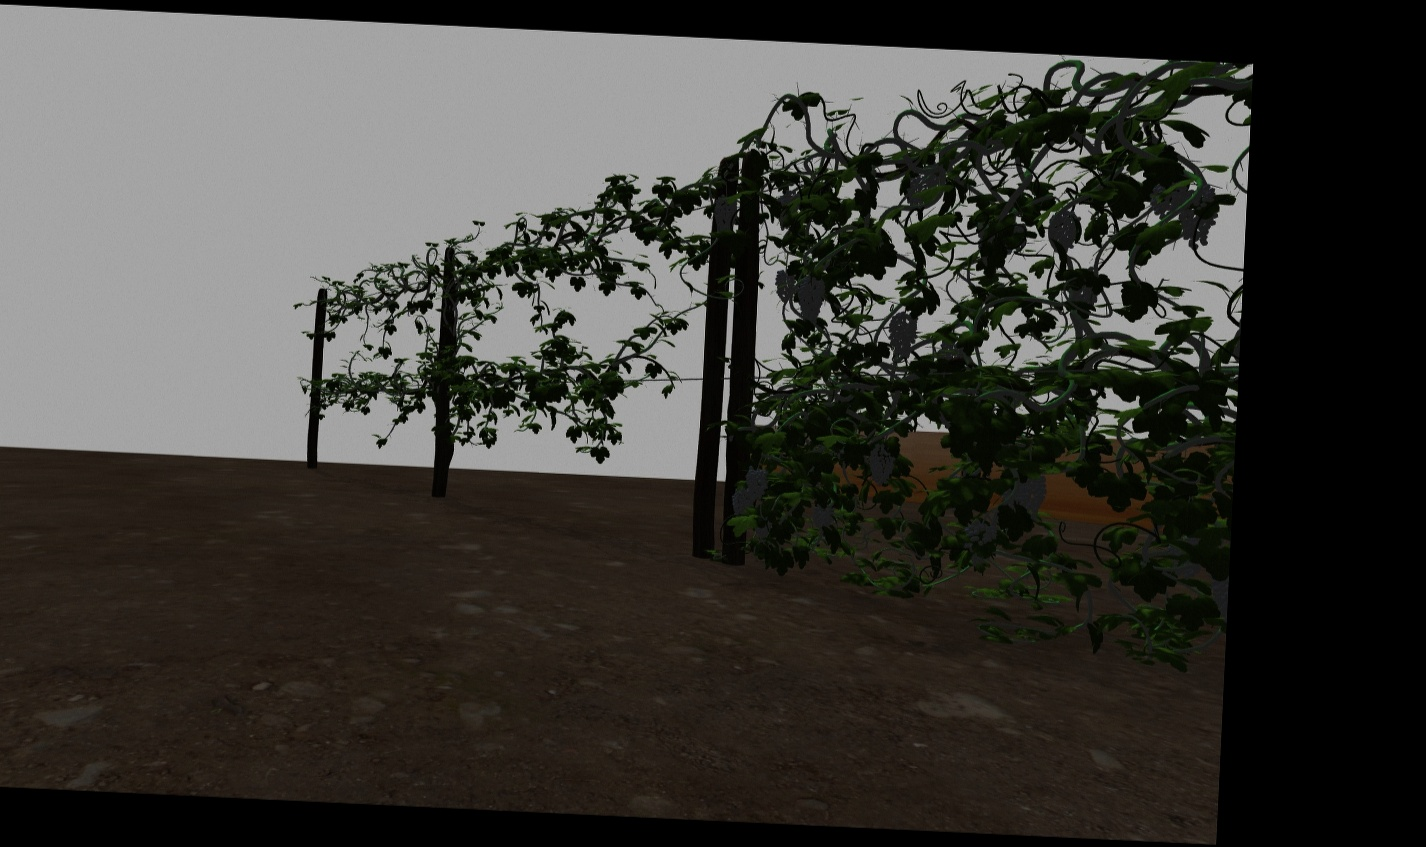grape: (1180, 184, 1218, 249), (1013, 470, 1048, 517), (888, 308, 918, 361), (796, 275, 826, 326), (1048, 207, 1078, 254), (868, 441, 895, 487), (1149, 184, 1181, 219), (966, 515, 1000, 546), (714, 195, 737, 233), (744, 466, 770, 499), (774, 266, 797, 302), (731, 488, 755, 516), (812, 502, 834, 529)
